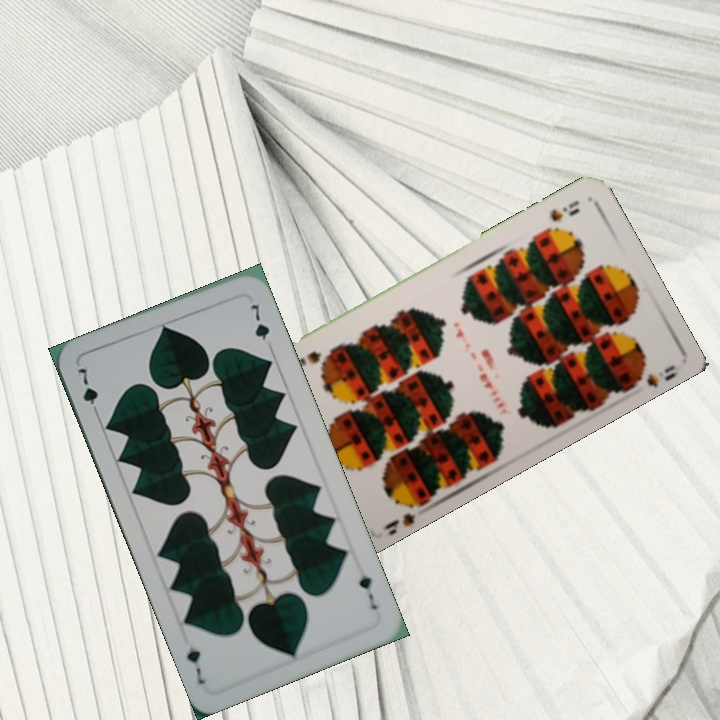G7: (73, 364, 102, 420), (355, 562, 381, 613)
S9: (378, 493, 425, 537), (546, 196, 582, 224)
